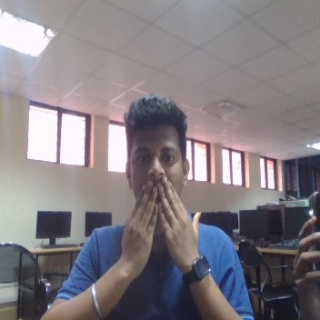Thank You: (117, 176, 212, 287)
